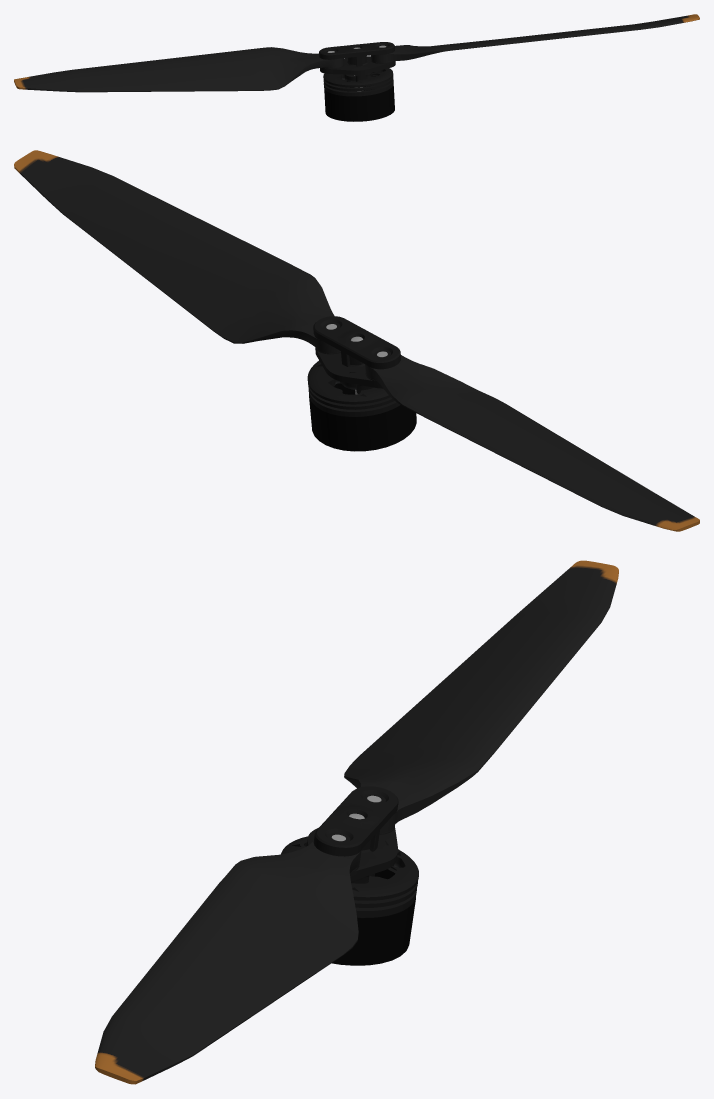
The model's file is motor_lf.dae.
3 views of the same model, one above another, from view 1: azimuth 30°, elevation 25°; view 2: azimuth 150°, elevation 25°; view 3: azimuth 270°, elevation 25° (orthographic). The views are drawn at different scales.
Visible parts, largest first — view 1: Blade3_08.001, Blade3_09.001, Blade3_01.001, Blade3_10.001, Blade3_04.001, Blade3_03.001, Blade3_02.001; view 2: Blade3_09.001, Blade3_08.001, Blade3_10.001, Blade3_01.001, Blade3_04.001, Blade3_03.001; view 3: Blade3_09.001, Blade3_08.001, Blade3_10.001, Blade3_01.001, Blade3_04.001.
Part boxes in pixels (<box>): Blade3_08.001: <box>14,47,343,92</box>; Blade3_09.001: <box>371,14,699,62</box>; Blade3_01.001: <box>324,75,394,121</box>; Blade3_10.001: <box>319,42,395,81</box>; Blade3_04.001: <box>323,68,393,87</box>; Blade3_03.001: <box>323,73,393,96</box>; Blade3_02.001: <box>323,76,393,91</box>; Blade3_09.001: <box>14,150,340,353</box>; Blade3_08.001: <box>365,351,699,531</box>; Blade3_10.001: <box>313,316,400,393</box>; Blade3_01.001: <box>309,383,416,451</box>; Blade3_04.001: <box>307,360,390,404</box>; Blade3_03.001: <box>308,390,400,416</box>; Blade3_09.001: <box>95,836,361,1084</box>; Blade3_08.001: <box>344,560,618,833</box>; Blade3_10.001: <box>306,786,398,883</box>; Blade3_01.001: <box>332,869,415,965</box>; Blade3_04.001: <box>281,836,418,900</box>.
Size of the model in its own units: 0.2254 by 0.0903 by 0.0283.
1 material, 1 textured.
